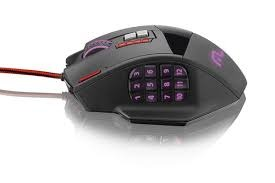mouse: (56, 30, 251, 131)
